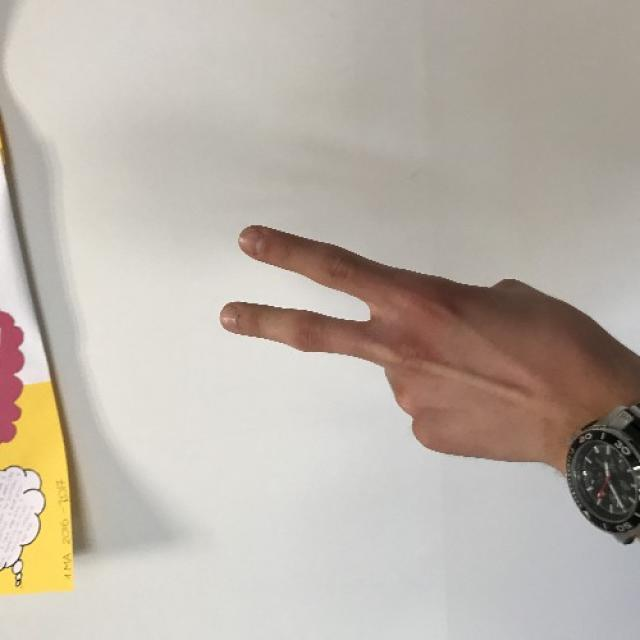scissors: (221, 220, 554, 456)
